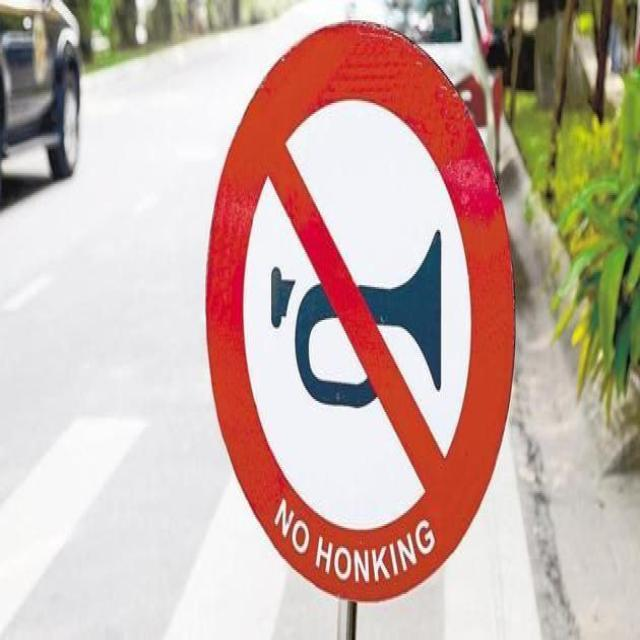horn prohibited: (199, 18, 519, 607)
